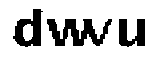d: (10, 5, 45, 50)
u: (115, 12, 148, 52)
v: (87, 17, 111, 47)
w: (45, 17, 88, 49)
